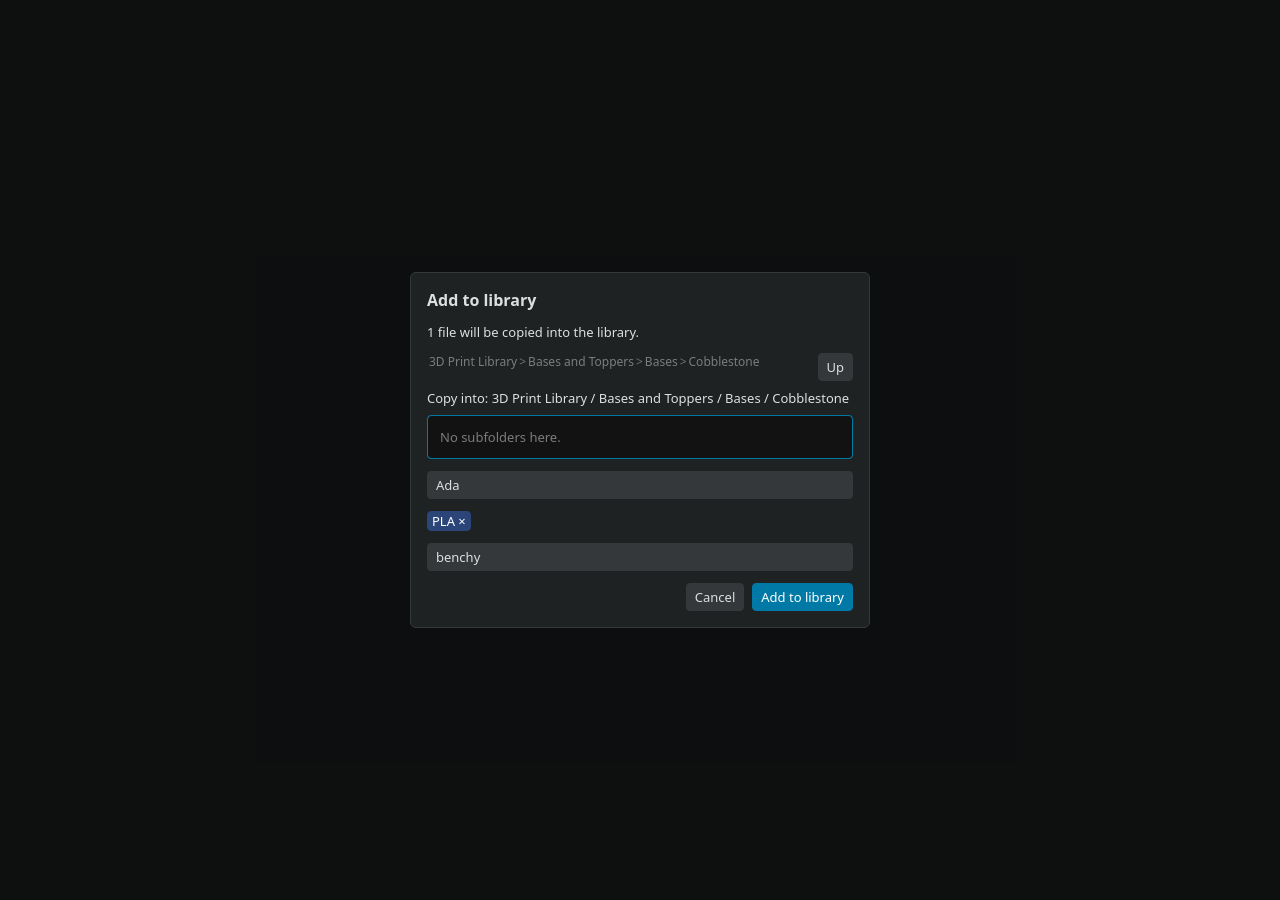
AddToLibraryDialog › steps out with Up and via breadcrumb
Click the button with aria-label "Up one folder" at [835, 367], box [818, 353, 853, 381]
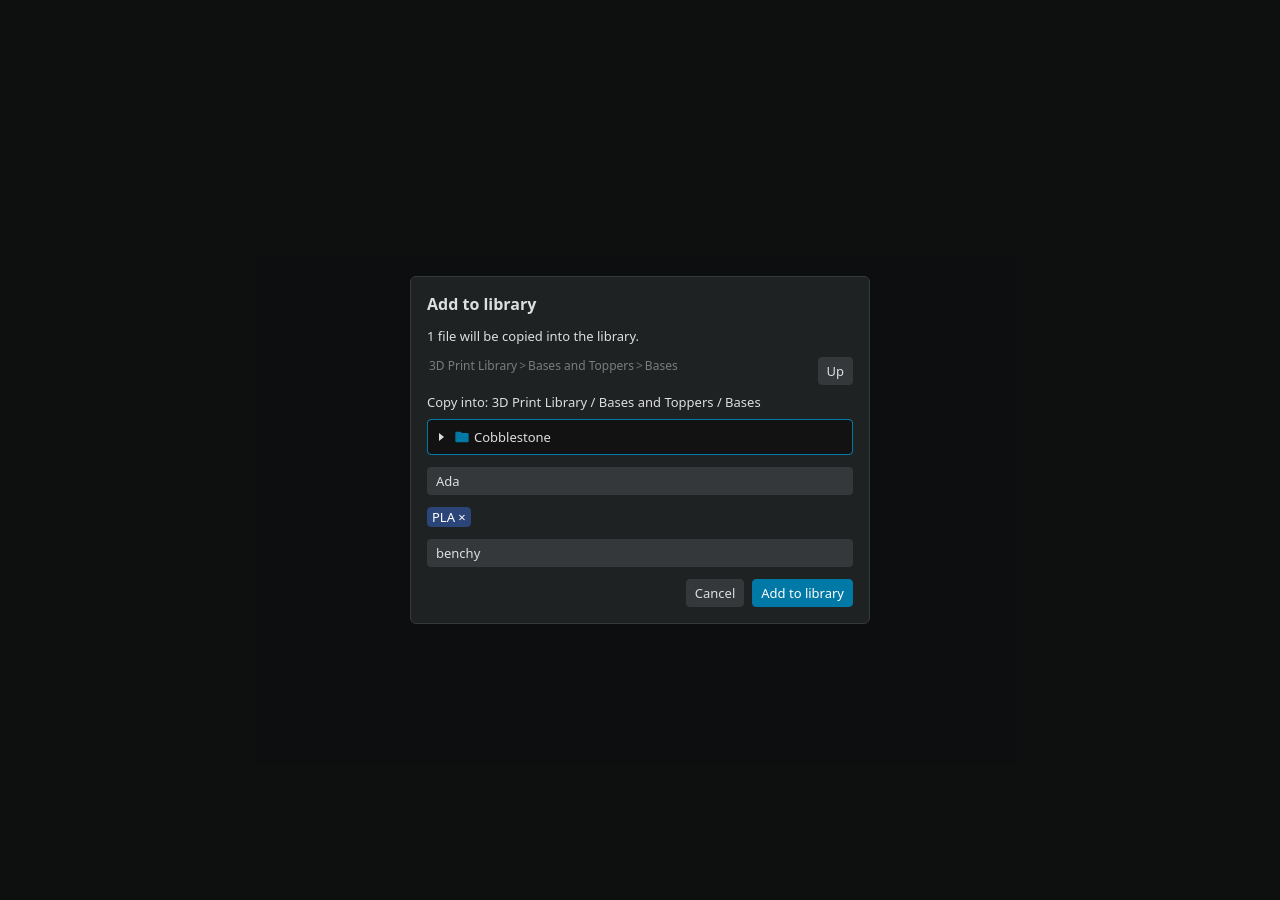
Check: the text with class "folder-picker-destination" reads "Copy into: 3D Print Library / Bases and Toppers / Bases", box [427, 393, 761, 411]
Click the button "Bases and Toppers" at [581, 366], box [526, 357, 636, 374]
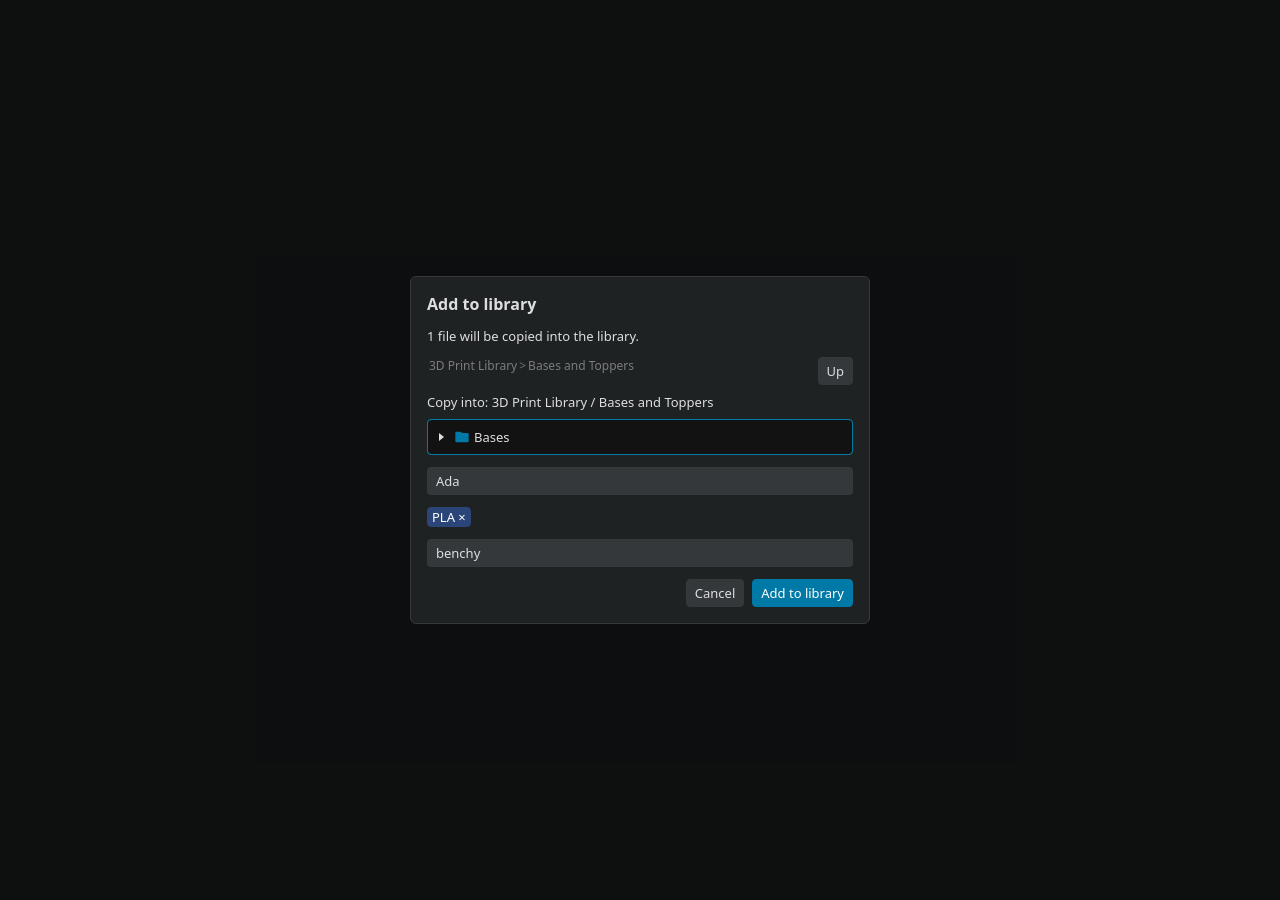
Check: the text with class "folder-picker-destination" reads "Copy into: 3D Print Library / Bases and Toppers", box [427, 393, 714, 411]
Click the button "3D Print Library" at [473, 366], box [427, 357, 519, 374]
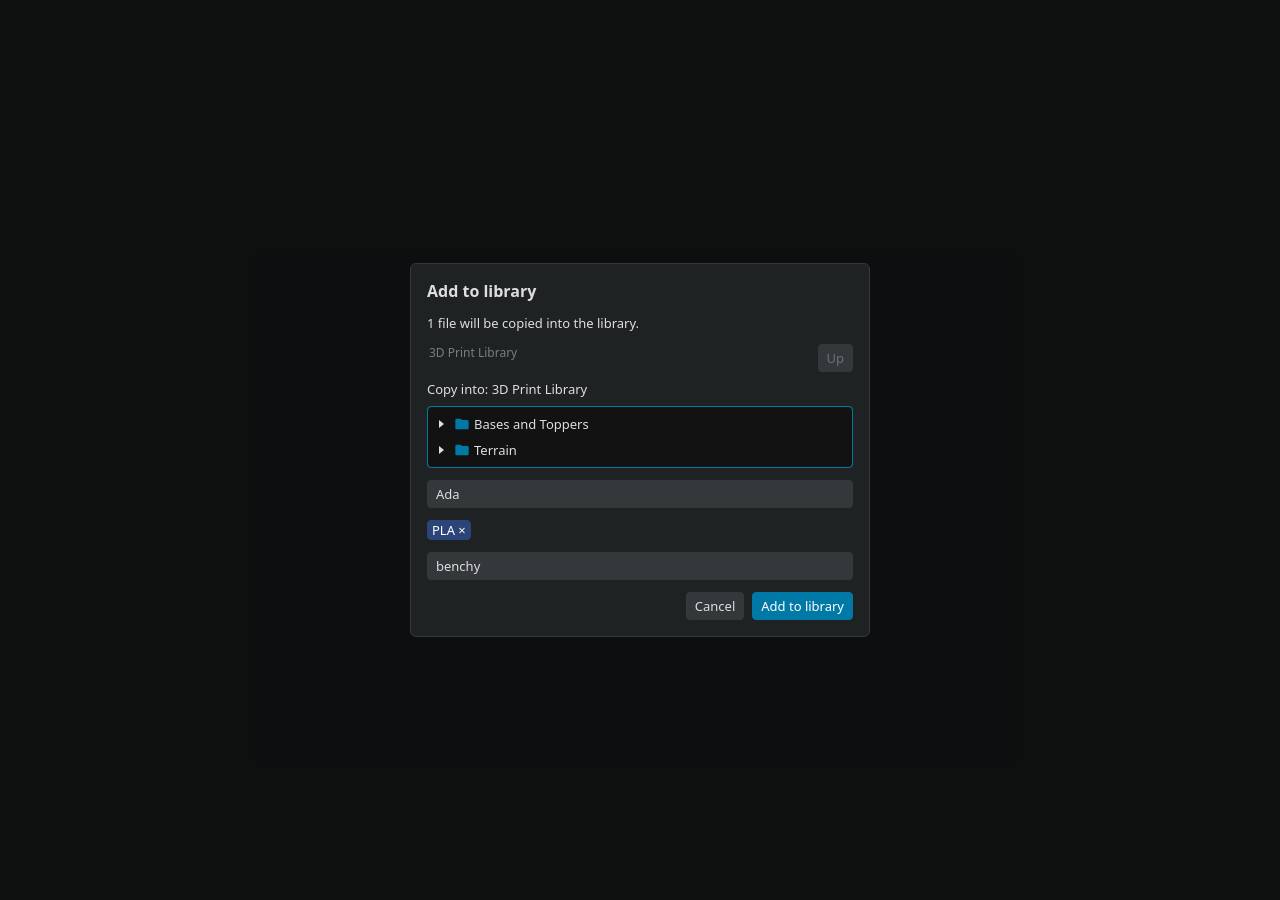
Check: the text with class "folder-picker-destination" reads "Copy into: 3D Print Library", box [427, 380, 587, 398]
